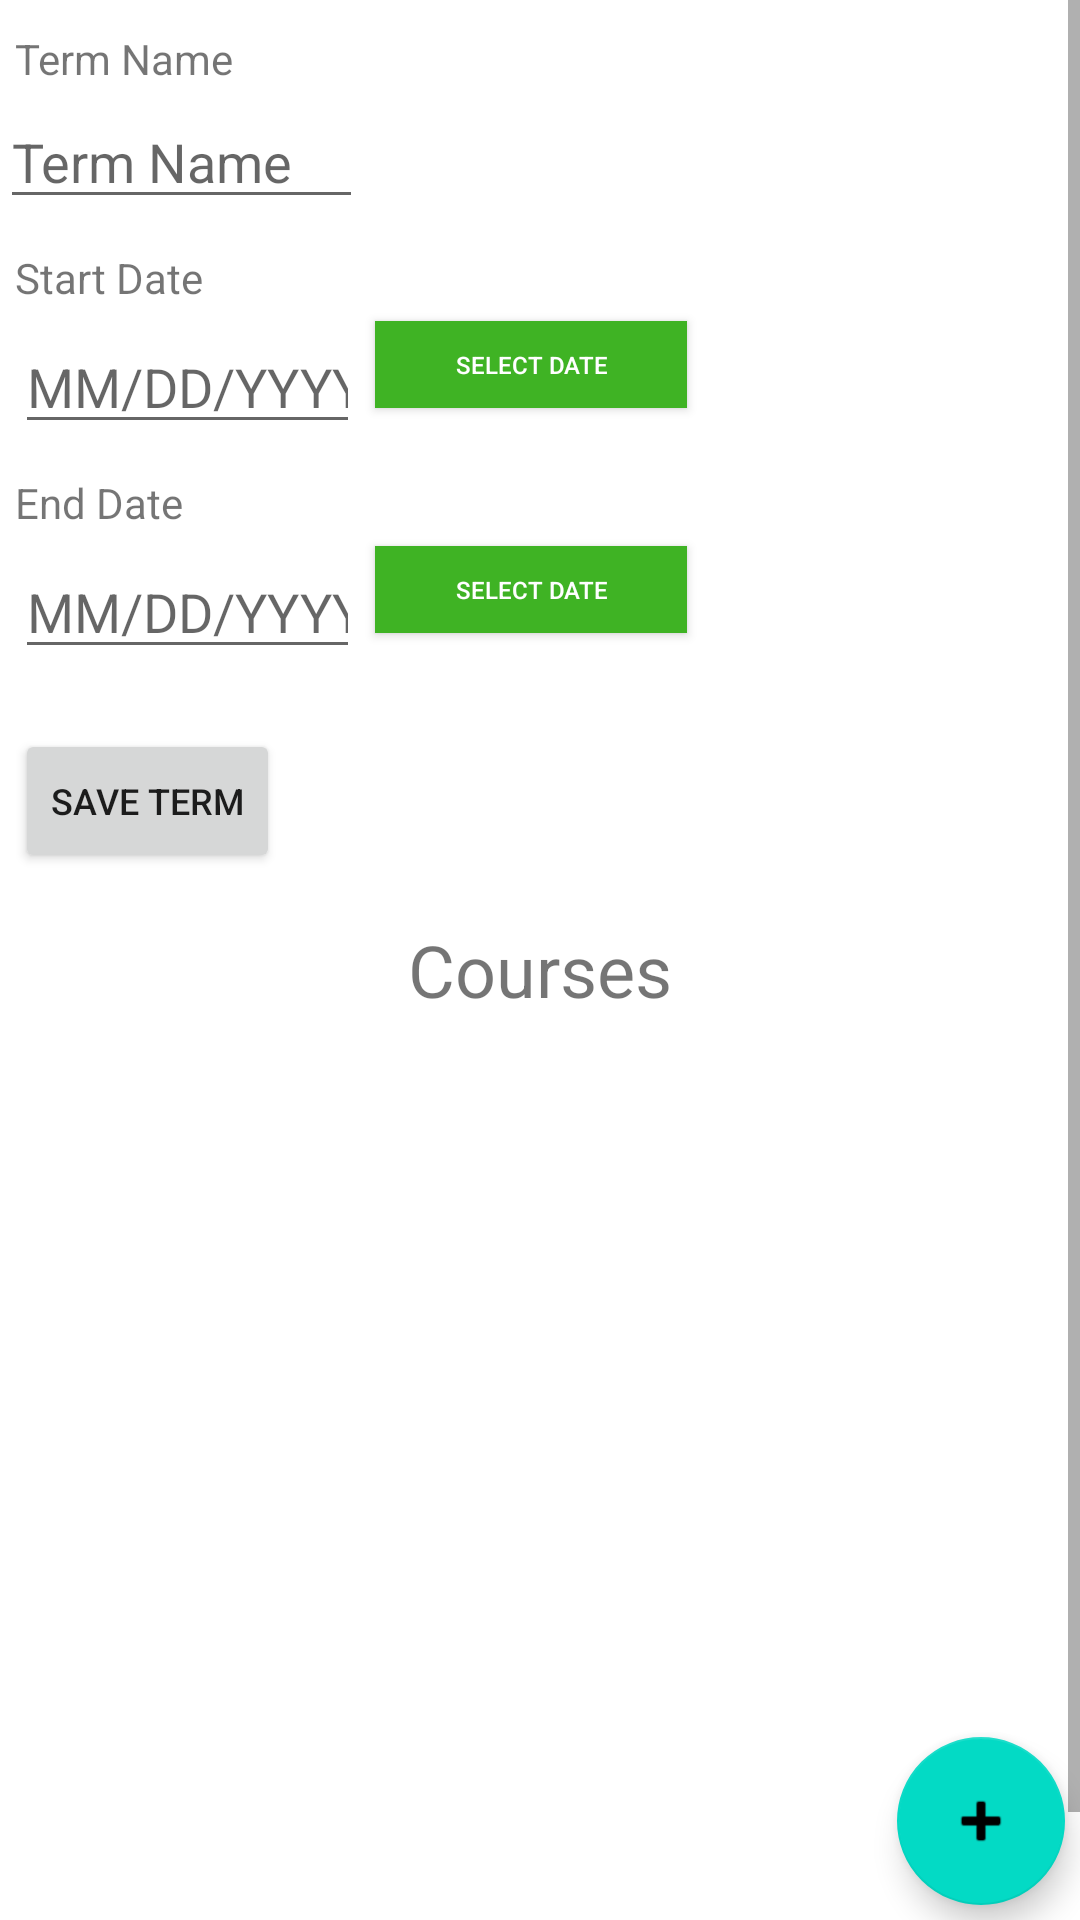

Icon click points for this 1080px×1920px phone screenshot, format point (x, y):
add: point (981, 1821)
